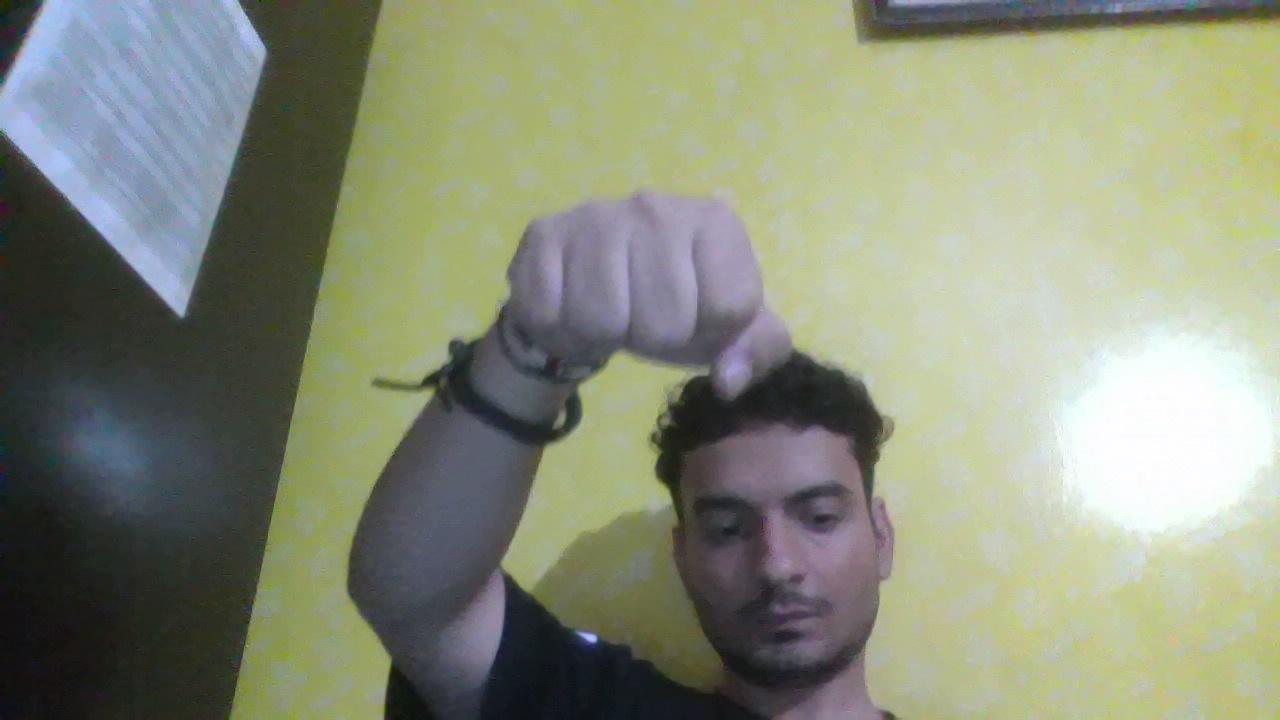Yes: (491, 163, 810, 399)
